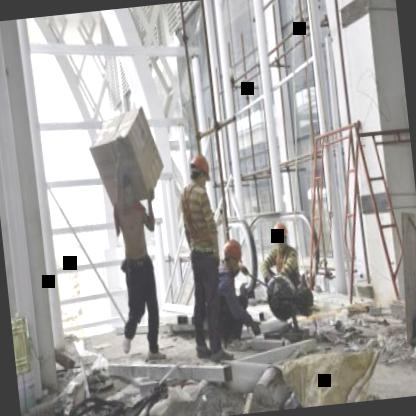head: (119, 174, 136, 207)
helmet: (268, 218, 296, 265), (186, 148, 210, 186), (219, 238, 243, 275)
